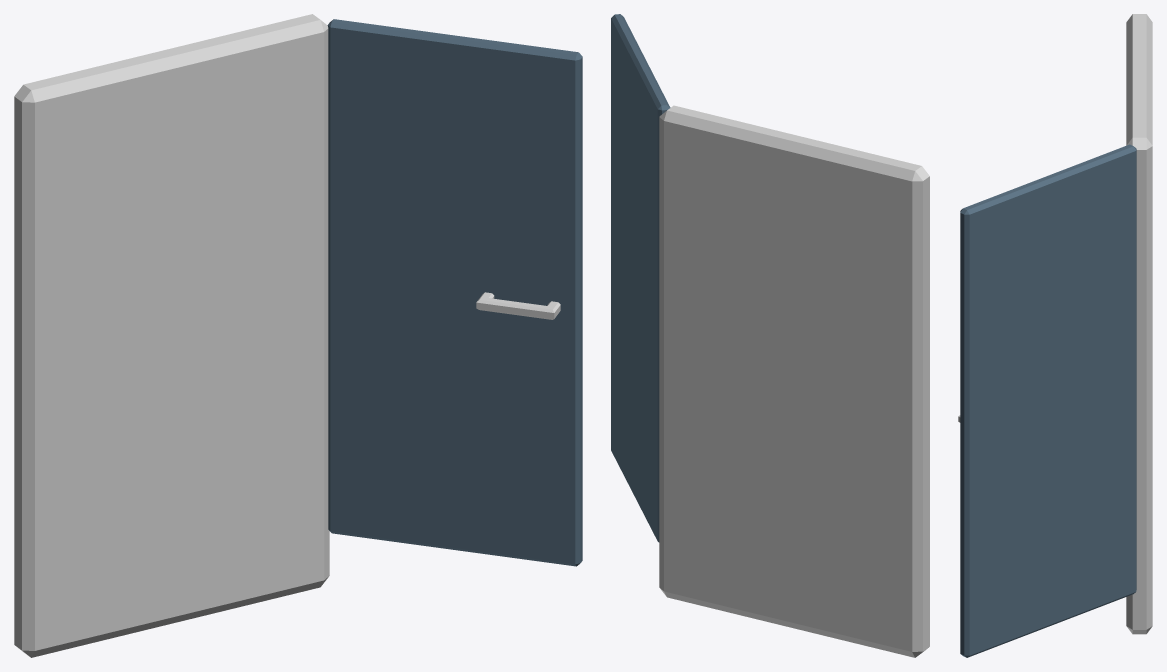
File: SM_BathroomOpen.fbx
3 renders of one model, left to right at view 1: azimuth 30°, elevation 25°; view 2: azimuth 150°, elevation 25°; view 3: azimuth 270°, elevation 25°, orthographic. The views are drawn at different scales.
Parts seen in each view (by area): view 1: Cube.033; view 2: Cube.033; view 3: Cube.033.
Part boxes in pixels (<box>): Cube.033: <box>14,14,582,657</box>; Cube.033: <box>611,14,929,657</box>; Cube.033: <box>958,14,1152,657</box>.
Bounding box in the file's own units: 63.91 × 154 × 180.
